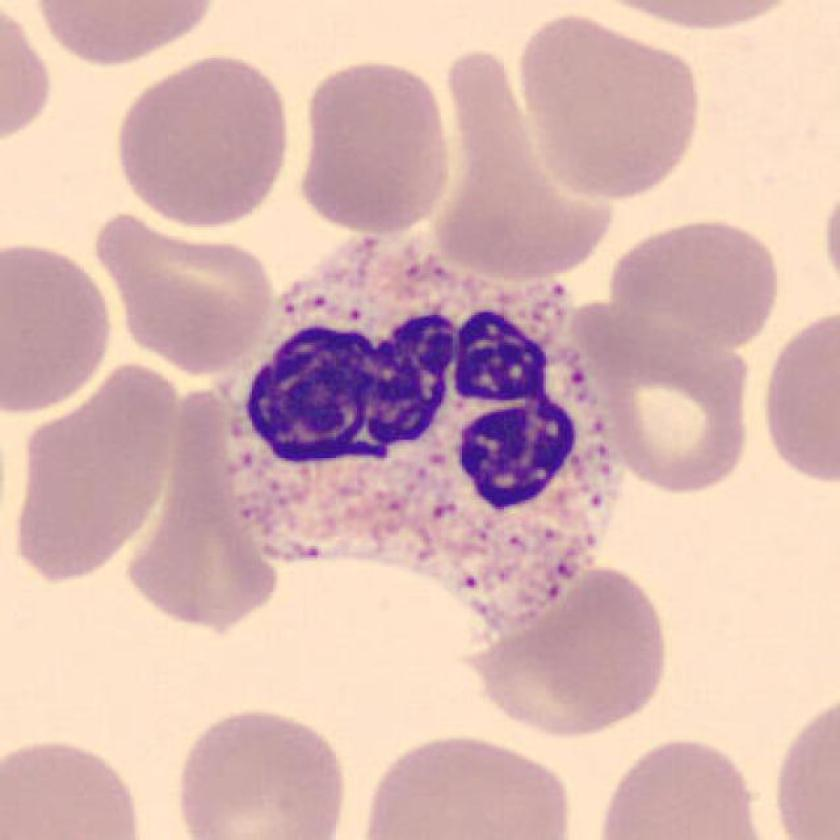neutrophil: (229, 241, 610, 631)
